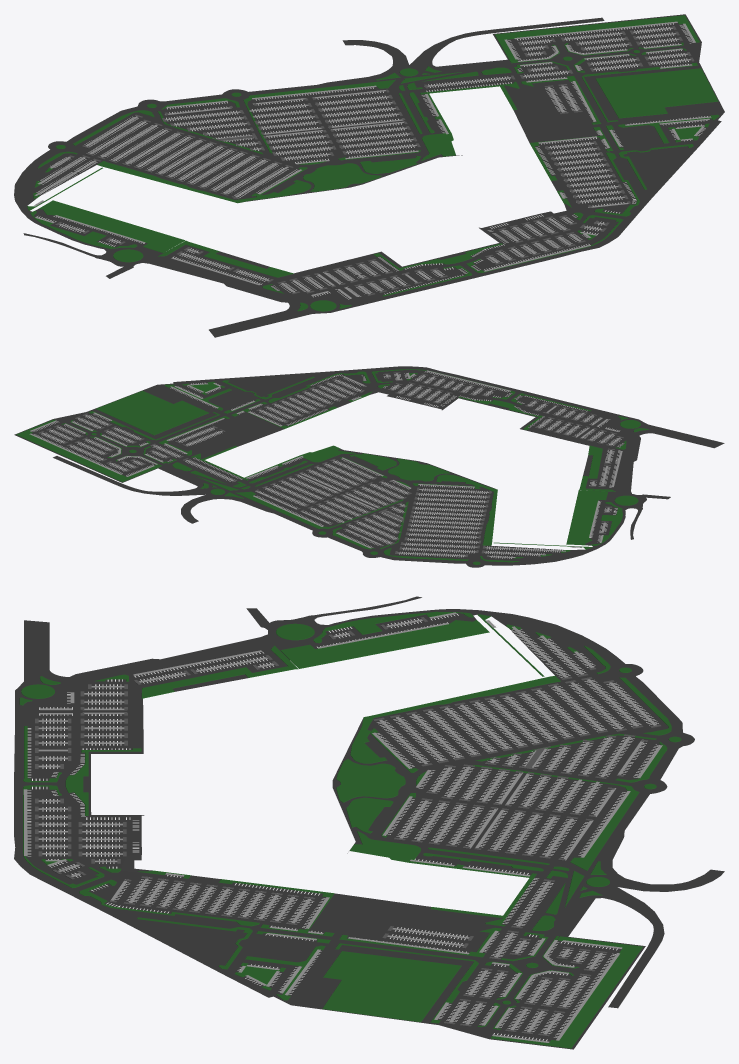
Rendered from Parking.FBX.
3 renders of one model, top to bottom at view 1: azimuth 30°, elevation 25°; view 2: azimuth 150°, elevation 25°; view 3: azimuth 270°, elevation 25°, orthographic. The views are drawn at different scales.
Parts seen in each view (by area): view 1: Shape4476, Shape4477, Shape3747, Shape2844, Shape61; view 2: Shape4476, Shape4477, Shape3747, Shape2844, Shape61; view 3: Shape4476, Shape4477, Shape3747, Shape2844, Shape61.
Part boxes in pixels (x1,y1,x2,y2): Shape4476: (14, 14, 724, 337); Shape4477: (27, 15, 719, 311); Shape3747: (34, 21, 711, 298); Shape2844: (33, 23, 707, 299); Shape61: (55, 26, 694, 295); Shape4476: (14, 366, 724, 567); Shape4477: (16, 369, 648, 564); Shape3747: (29, 370, 622, 557); Shape2844: (33, 371, 623, 558); Shape61: (38, 372, 623, 557); Shape4476: (14, 596, 724, 1049); Shape4477: (19, 611, 681, 1048); Shape3747: (23, 612, 662, 1042); Shape2844: (27, 614, 658, 1041); Shape61: (35, 617, 661, 1036).
Size of the model in its own units: 757 by 0.9552 by 502.
